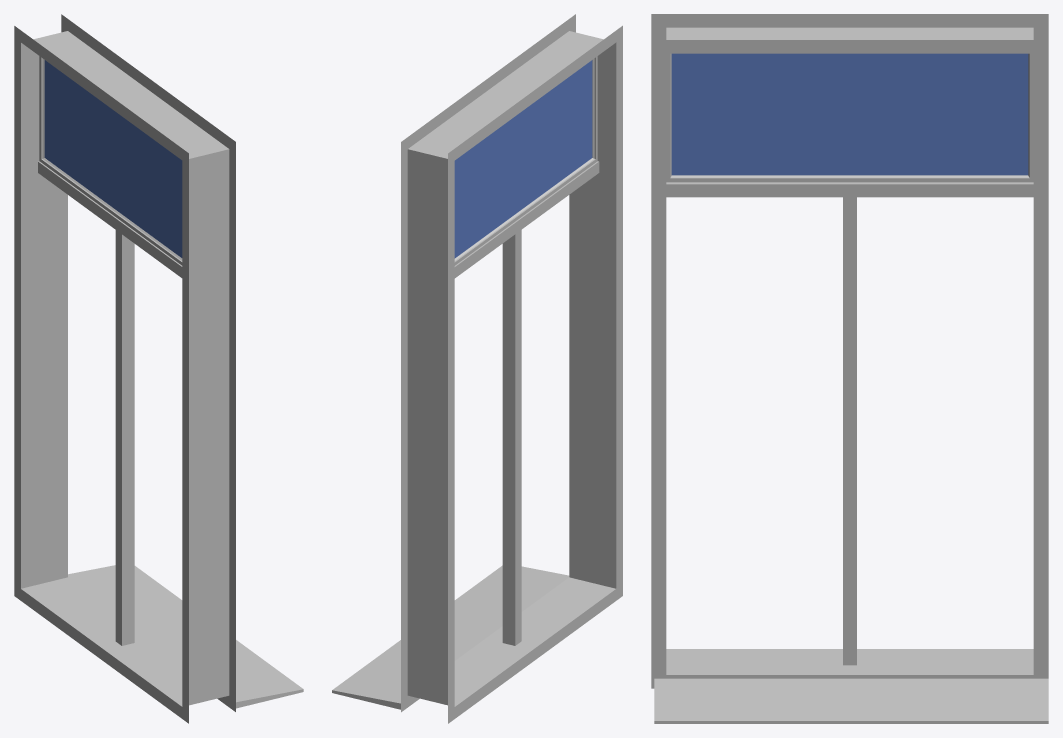
Rendered from win24_frame.fbx.
3 renders of one model, left to right at view 1: azimuth 30°, elevation 25°; view 2: azimuth 150°, elevation 25°; view 3: azimuth 270°, elevation 25°, orthographic. The views are drawn at different scales.
Visible parts, largest first — view 1: Cylinder_2_2_3; view 2: Cylinder_2_2_3; view 3: Cylinder_2_2_3.
Boxes of the visible parts, x1,y1,x2,y2 form: Cylinder_2_2_3: (14,14,303,723); Cylinder_2_2_3: (332,14,622,723); Cylinder_2_2_3: (651,14,1048,723).
Size of the model in its own units: 38.32 by 180 by 100.
